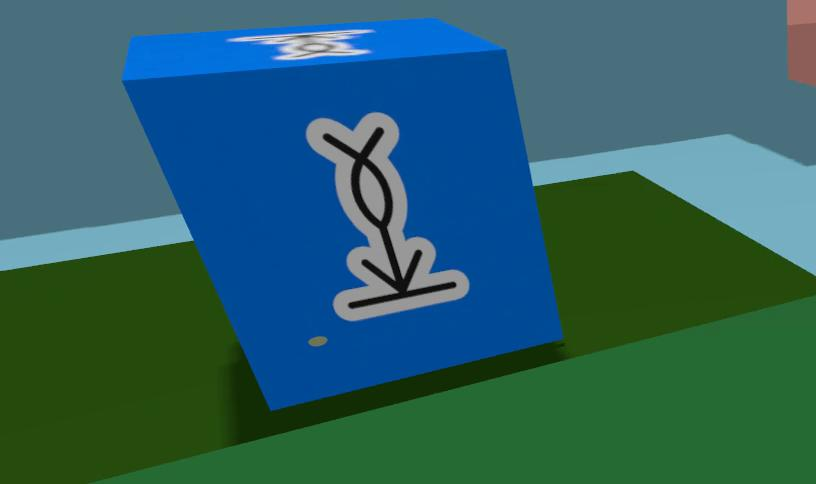KFS_REAL: (122, 18, 560, 408), (307, 112, 468, 320), (229, 31, 372, 60)
